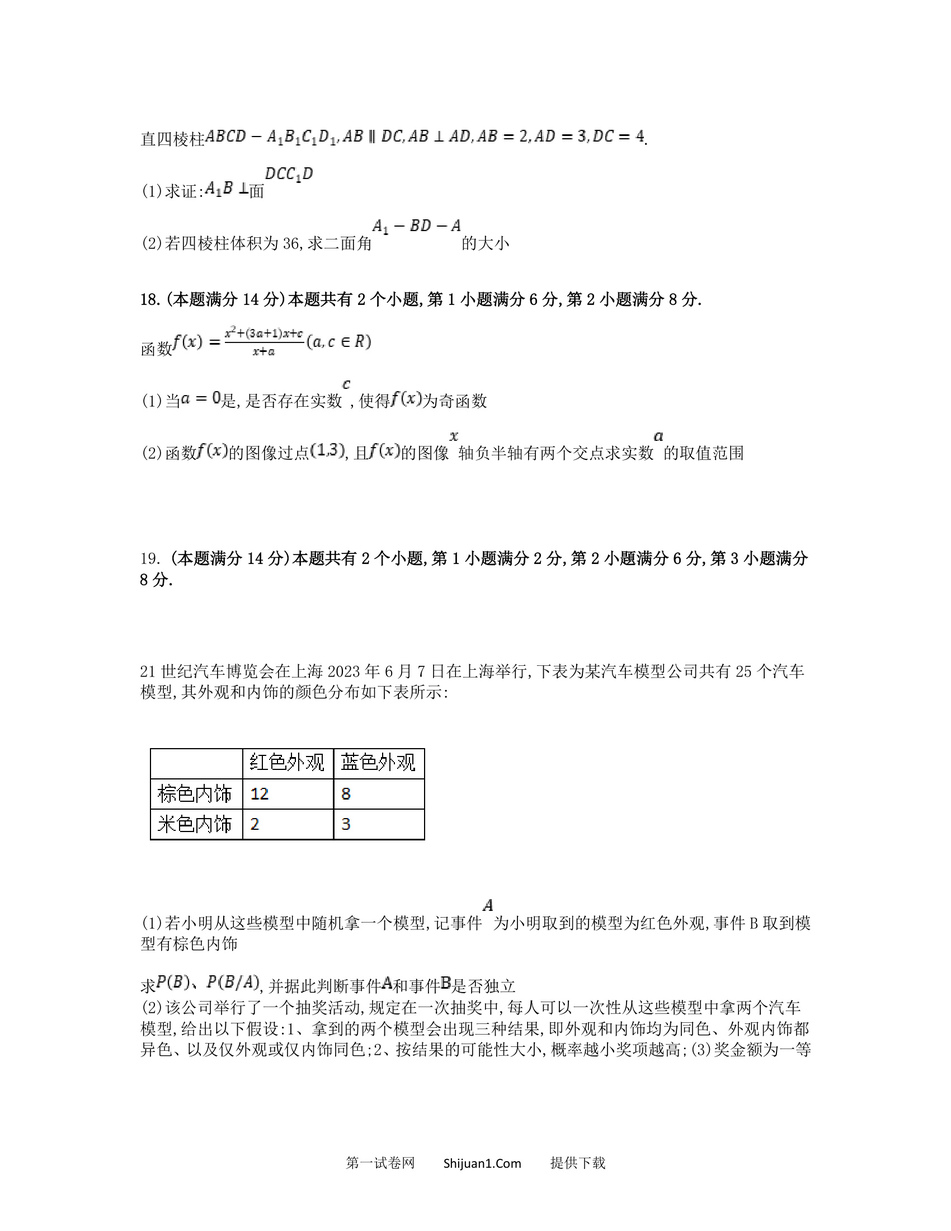question: (131, 643, 829, 1075), (124, 274, 755, 485), (131, 113, 675, 270)
